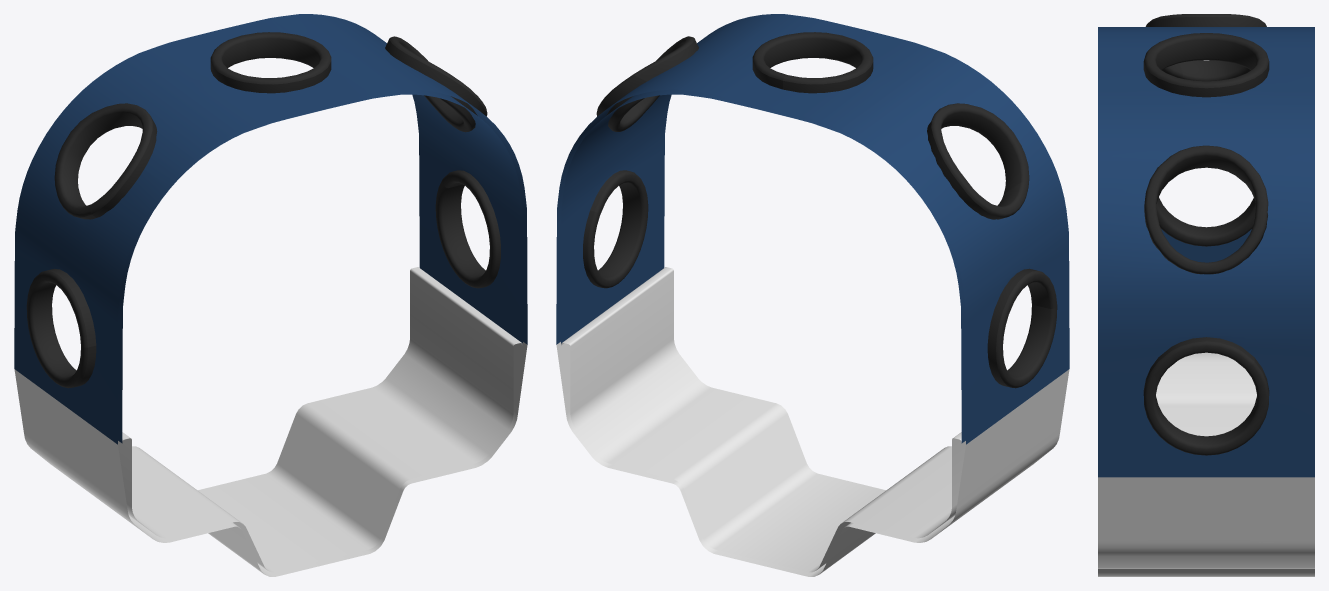
File: NaV_Center02_Carlinga.001.fbx
3 views of the same model, side by side, from view 1: azimuth 30°, elevation 25°; view 2: azimuth 150°, elevation 25°; view 3: azimuth 270°, elevation 25° (orthographic). The views are drawn at different scales.
Visible parts, largest first — view 1: NaV_Center02_Carlinga.001; view 2: NaV_Center02_Carlinga.001; view 3: NaV_Center02_Carlinga.001.
Boxes of the visible parts, <box> form: NaV_Center02_Carlinga.001: <box>14,14,527,576</box>; NaV_Center02_Carlinga.001: <box>556,14,1069,576</box>; NaV_Center02_Carlinga.001: <box>1098,14,1314,576</box>.
Bounding box in the file's own units: 301 × 314 × 125.
